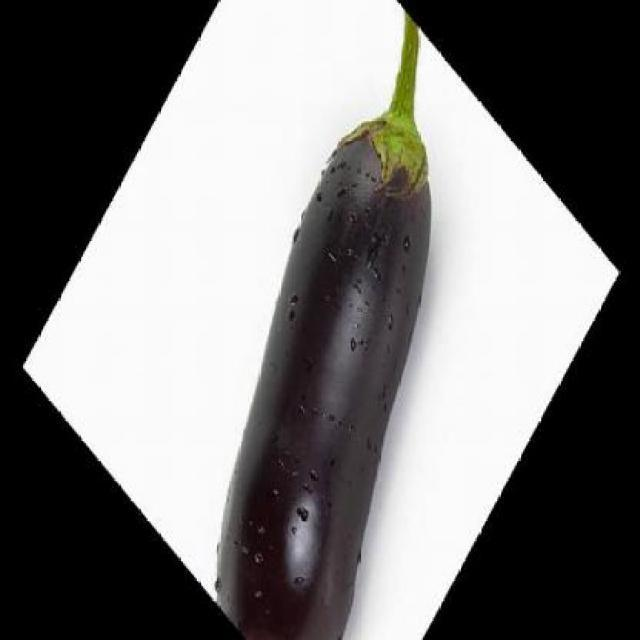eggplant: (114, 0, 574, 638)
